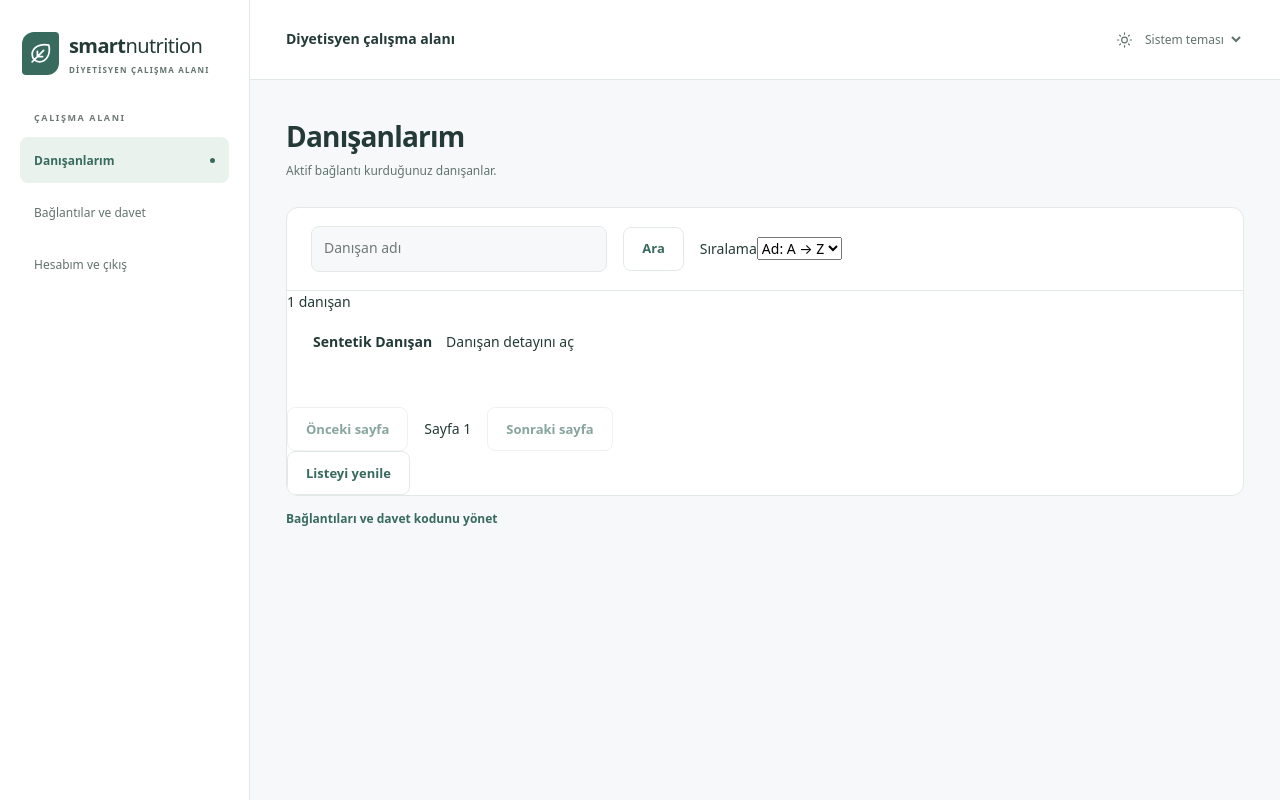
Test: authenticated dietitian workspace › clears an earlier client list immediately during refresh and redirects on a new 401
Expected: the text "Sentetik Danışan" is shown, [313, 331, 432, 353]
Click the button "Listeyi yenile": [348, 473] box [287, 451, 410, 495]
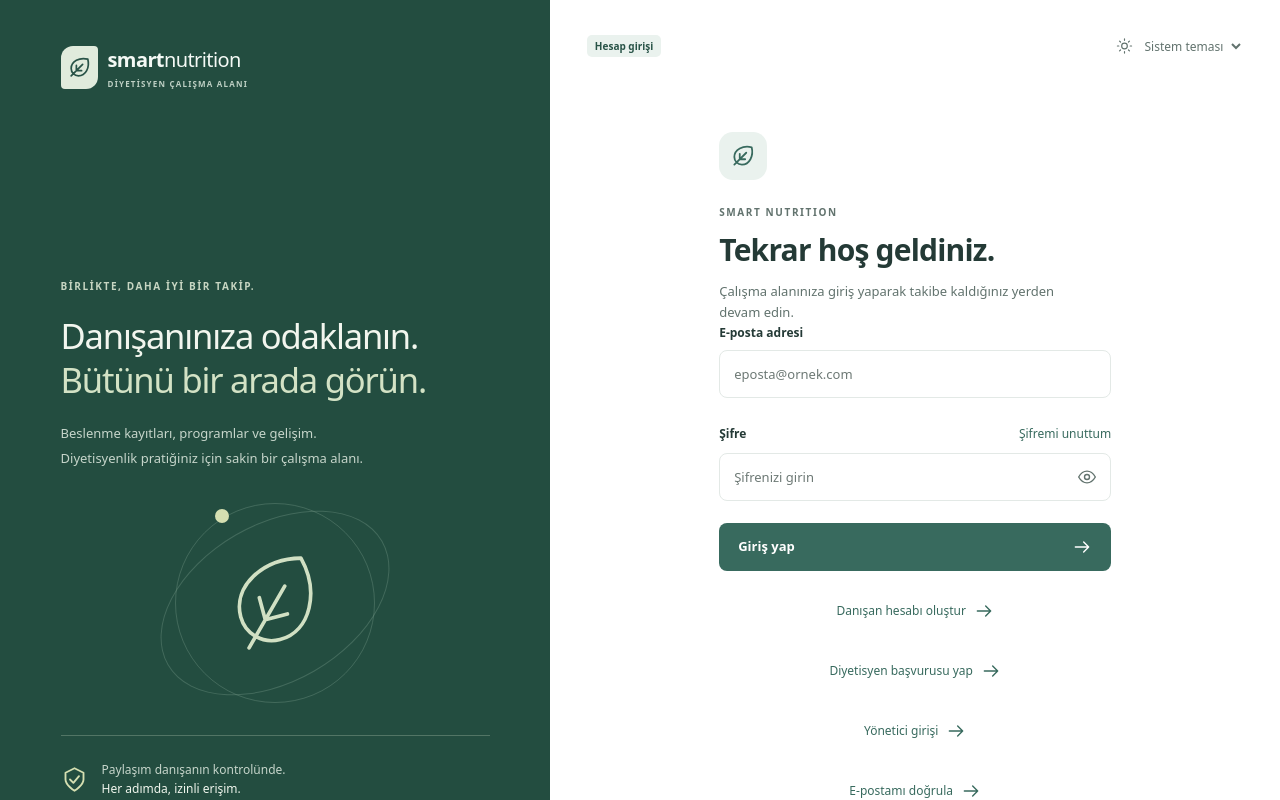
Expected: the heading "Tekrar hoş geldiniz." is shown, [719, 229, 994, 270]
Expected: the link "Sentetik Danışan" is gone
